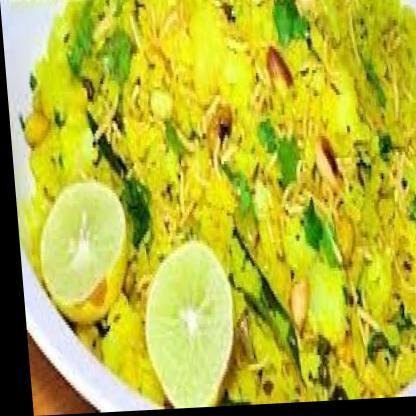poha: (4, 0, 416, 416)
